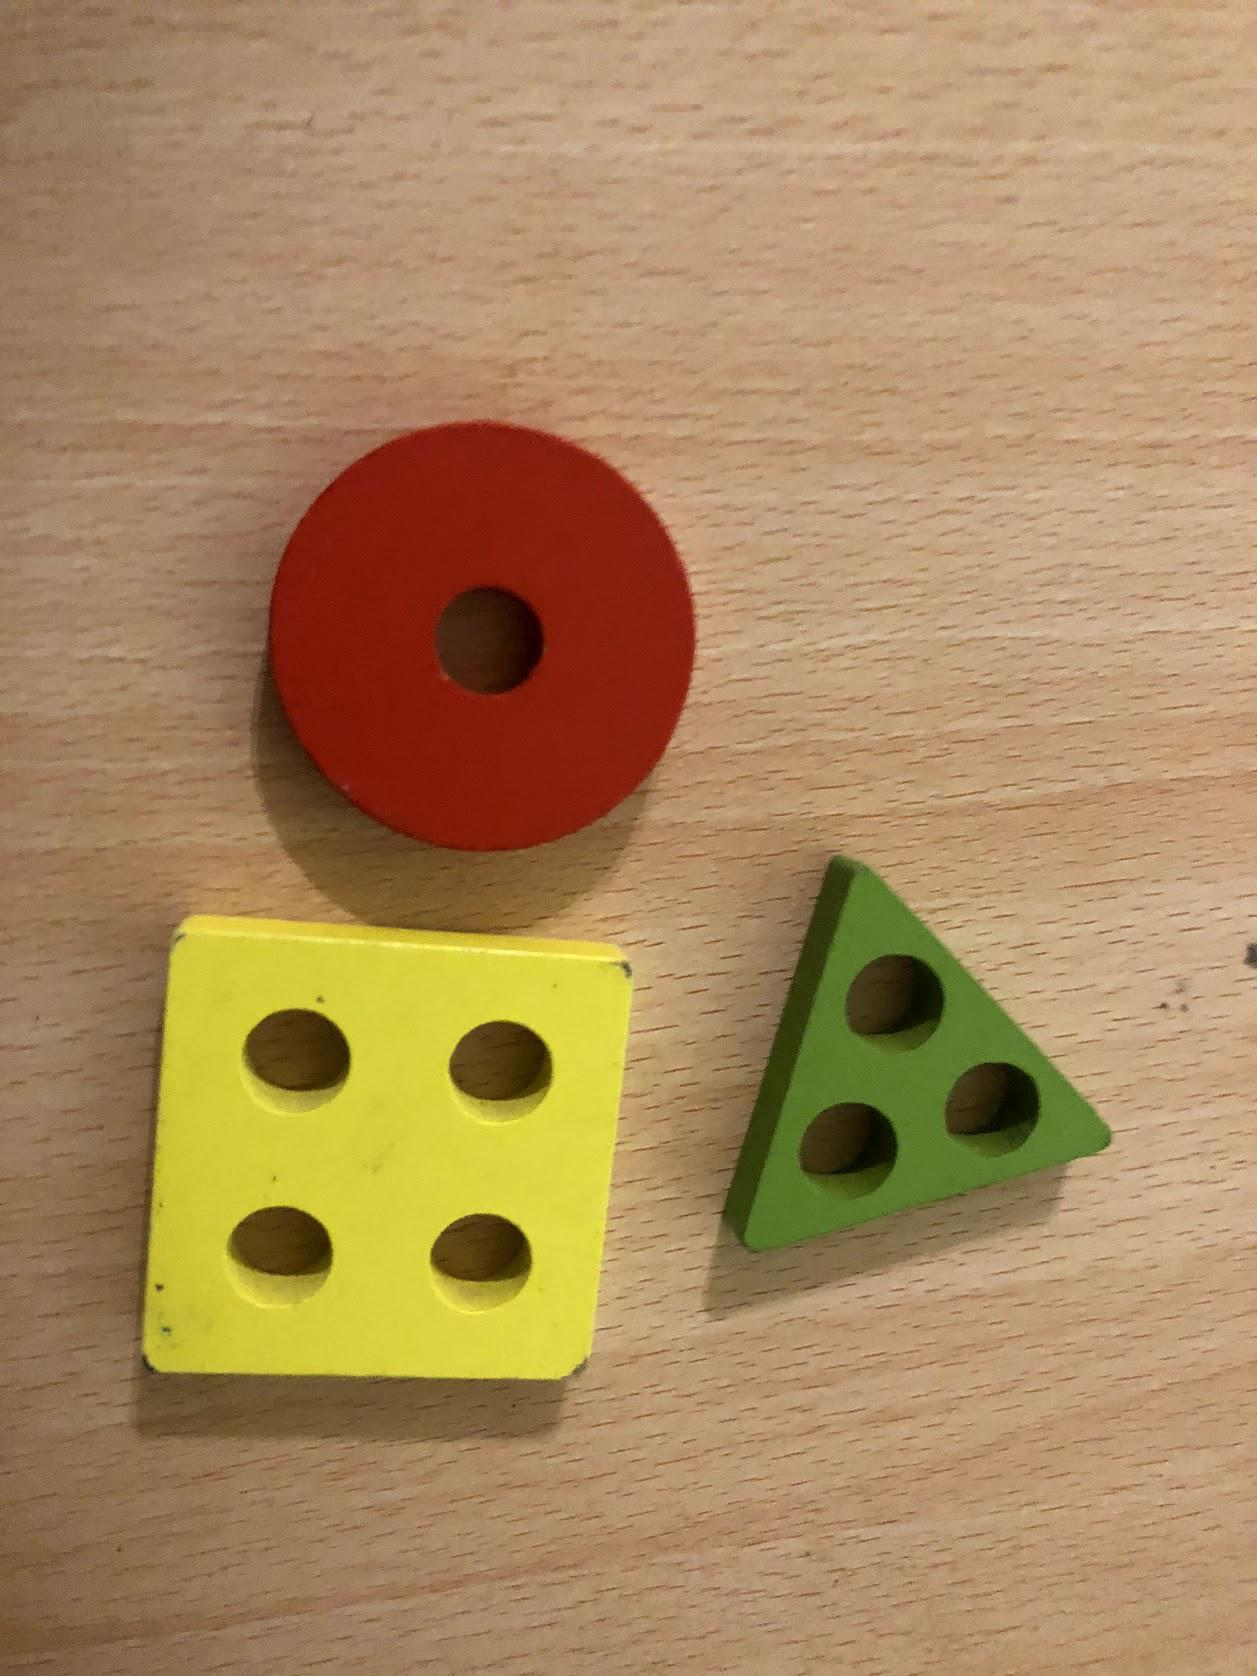Circle: (264, 416, 702, 855)
Square: (133, 915, 643, 1395)
Triangle: (741, 855, 1118, 1252)
